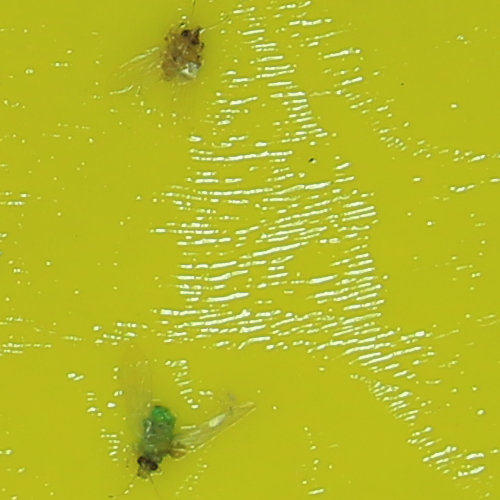Glycaspis: (133, 402, 178, 478), (160, 25, 204, 81)
